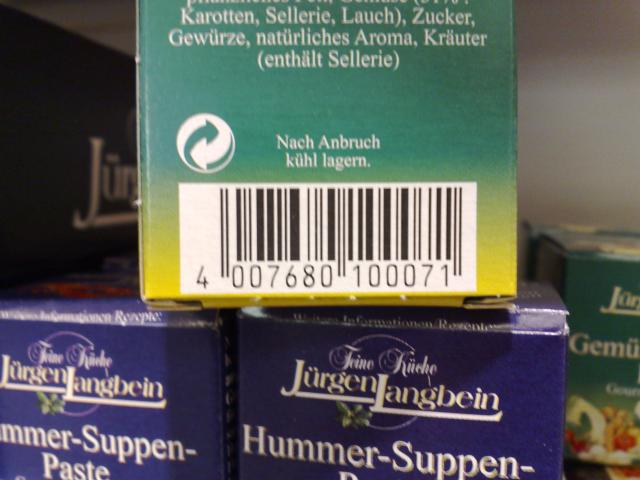Barkod: (215, 186, 464, 261)
